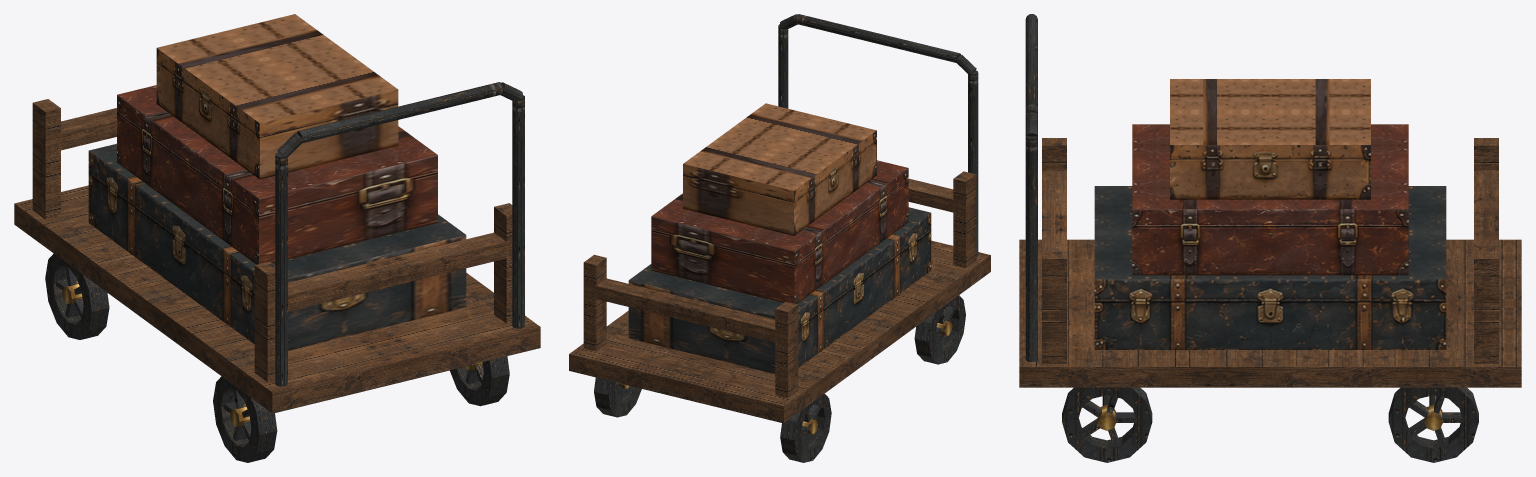
The model's file is luggage_cart.glb.
3 renders of one model, left to right at view 1: azimuth 30°, elevation 25°; view 2: azimuth 150°, elevation 25°; view 3: azimuth 270°, elevation 25°, orthographic. The views are drawn at different scales.
Visible parts, largest first — view 1: cart_wooden_platform, trunk_brown, trunk_tan, trunk_blue, cart_wooden_end_rails, cart_handle, cart_wheel_L_1, cart_wheel_L_2, cart_wheel_R_1; view 2: cart_wooden_platform, trunk_brown, trunk_tan, trunk_blue, cart_wooden_end_rails, cart_handle, cart_wheel_L_2, cart_wheel_L_1, cart_wheel_R_2; view 3: trunk_blue, cart_wooden_platform, trunk_brown, trunk_tan, cart_wooden_end_rails, cart_wheel_R_1, cart_wheel_R_2, cart_handle.
Part boxes in pixels (x1,y1,x2,y2): cart_wooden_platform: (14, 185, 540, 413); trunk_brown: (117, 85, 437, 264); trunk_tan: (156, 14, 398, 179); trunk_blue: (88, 143, 466, 350); cart_wooden_end_rails: (32, 99, 512, 382); cart_handle: (275, 82, 524, 386); cart_wheel_L_1: (213, 376, 277, 462); cart_wheel_L_2: (45, 253, 109, 339); cart_wheel_R_1: (450, 356, 509, 406); cart_wooden_platform: (569, 240, 990, 423); trunk_brown: (651, 160, 908, 303); trunk_tan: (683, 103, 876, 235); trunk_blue: (628, 207, 931, 373); cart_wooden_end_rails: (583, 171, 976, 398); cart_handle: (778, 14, 978, 257); cart_wheel_L_2: (780, 393, 831, 462); cart_wheel_L_1: (914, 295, 965, 364); cart_wheel_R_2: (594, 377, 641, 417); trunk_blue: (1094, 186, 1446, 349); cart_wooden_platform: (1019, 239, 1521, 387); trunk_brown: (1132, 124, 1408, 275); trunk_tan: (1170, 79, 1370, 199); cart_wooden_end_rails: (1042, 138, 1498, 363); cart_wheel_R_1: (1062, 387, 1152, 462); cart_wheel_R_2: (1388, 387, 1478, 462); cart_handle: (1025, 14, 1037, 361).
Size of the model in its own units: 1.2 by 1.5 by 2.
9 materials, 9 textured.
